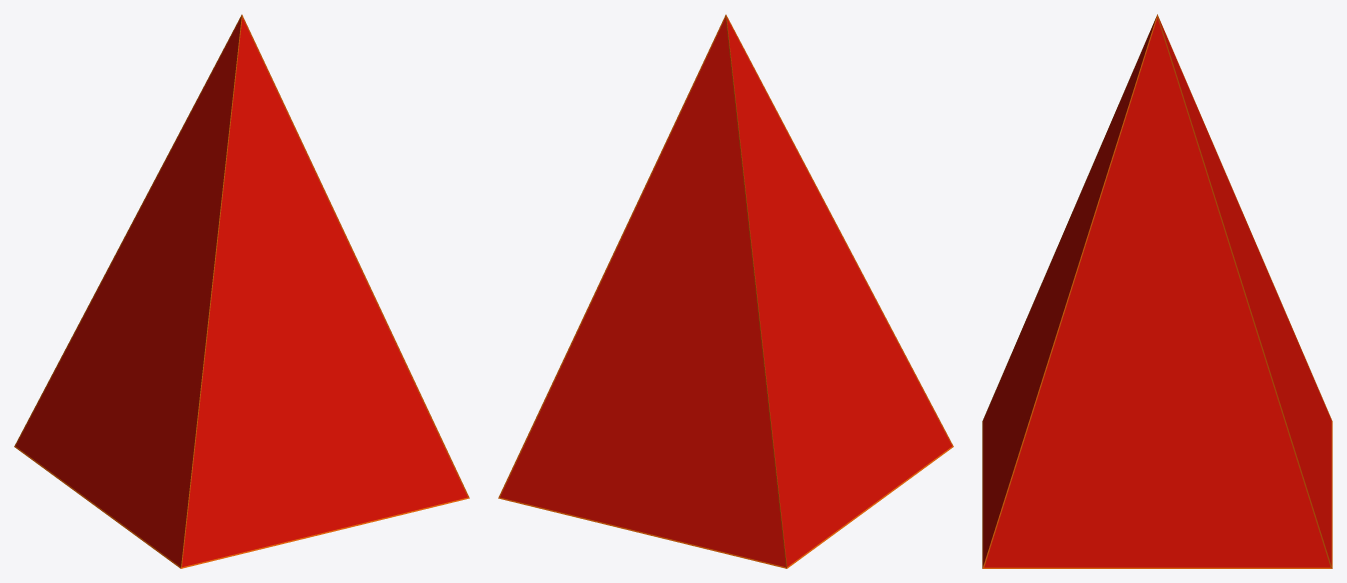
The model's file is vision_cone.fbx.
3 renders of one model, left to right at view 1: azimuth 30°, elevation 25°; view 2: azimuth 150°, elevation 25°; view 3: azimuth 270°, elevation 25°, orthographic. The views are drawn at different scales.
Parts seen in each view (by area): view 1: Plane; view 2: Plane; view 3: Plane.
Part boxes in pixels (left/top/right/bottom): Plane: left=14, top=14, right=469, bottom=568; Plane: left=498, top=14, right=953, bottom=568; Plane: left=982, top=14, right=1332, bottom=568.
Bounding box in the file's own units: 1003 × 1521 × 1003.
